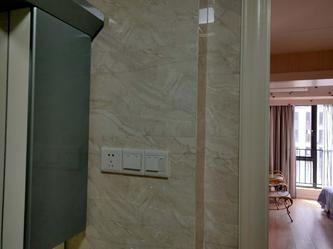switch: (124, 152, 140, 170), (145, 156, 157, 170), (161, 156, 166, 172)
